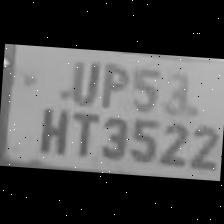2: (184, 119, 220, 170), (155, 116, 189, 167)
3: (159, 64, 194, 115), (96, 110, 128, 160)
5: (124, 61, 162, 111), (127, 112, 160, 162)
H: (32, 102, 70, 154)
P: (95, 58, 129, 110)
T: (64, 106, 98, 158)
U: (62, 56, 100, 106)
